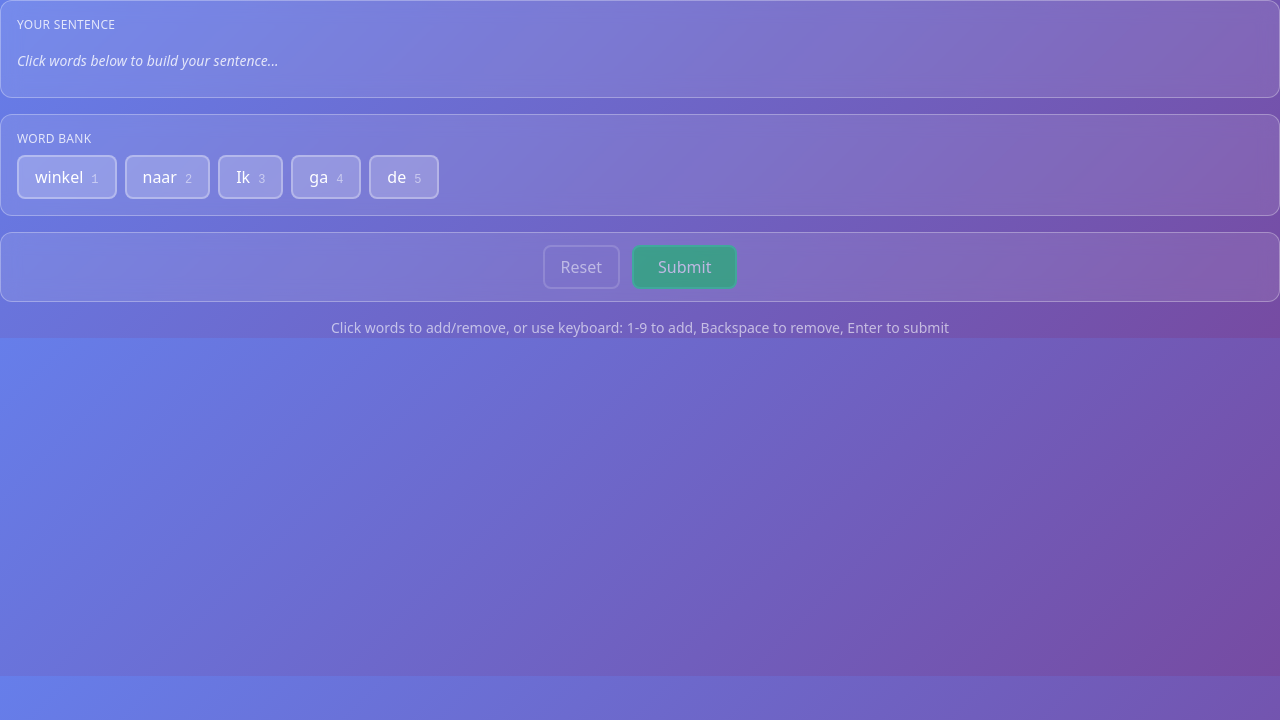
Test case: SentenceConstructionInput › word selection › should build sentence in correct order
# Add words in order
Click the text "Ik".
click(243, 177)  # box [236, 166, 250, 188]
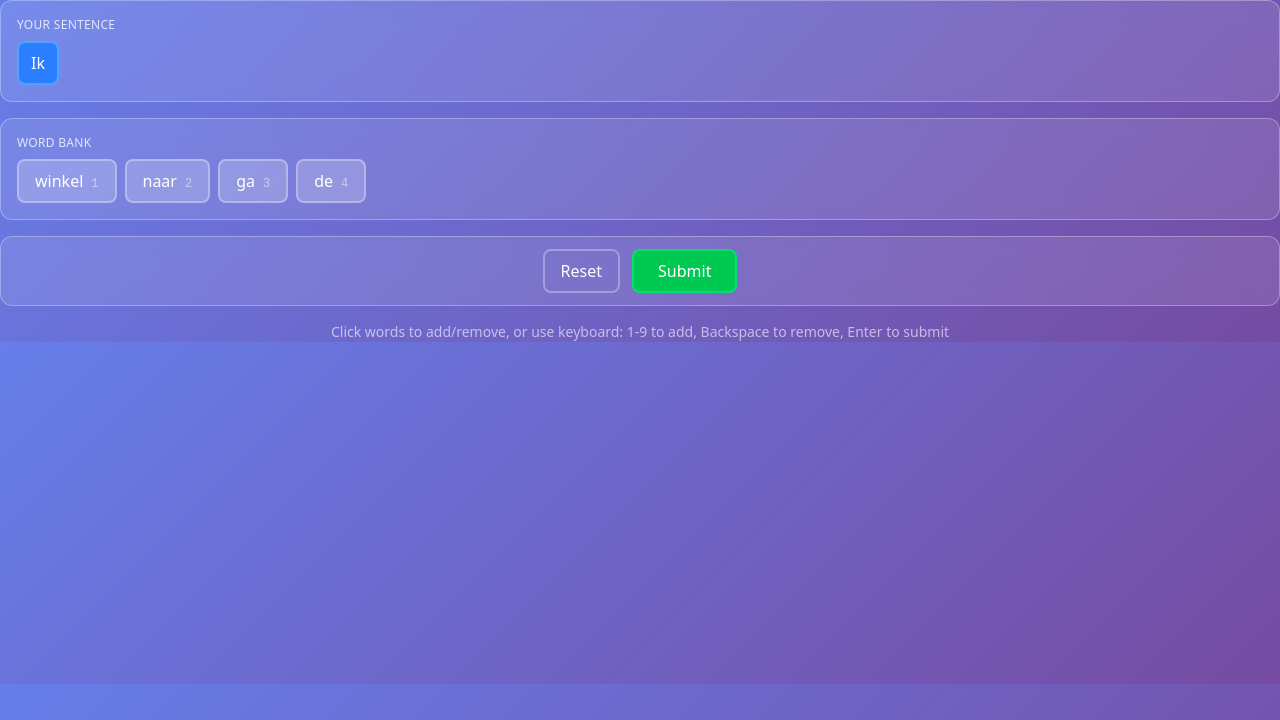
Click the text "ga".
click(246, 181)  # box [236, 170, 255, 192]
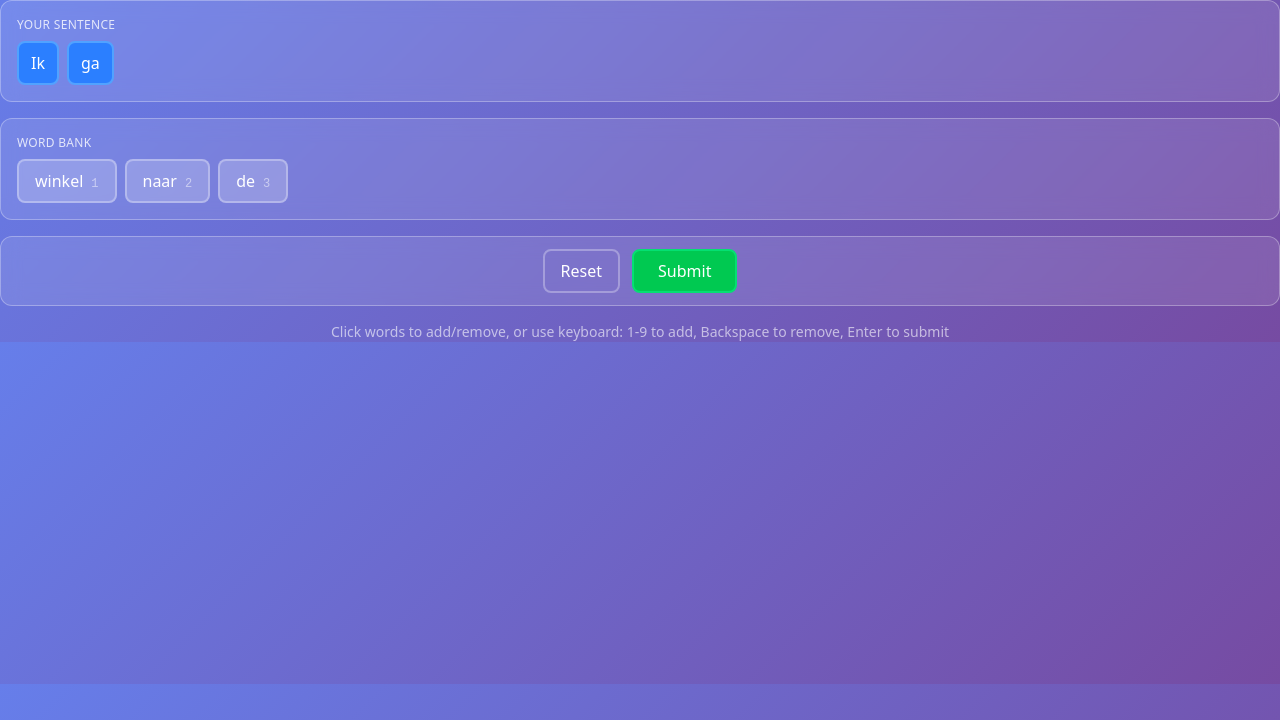
Click the text "naar".
click(160, 181)  # box [142, 170, 177, 192]
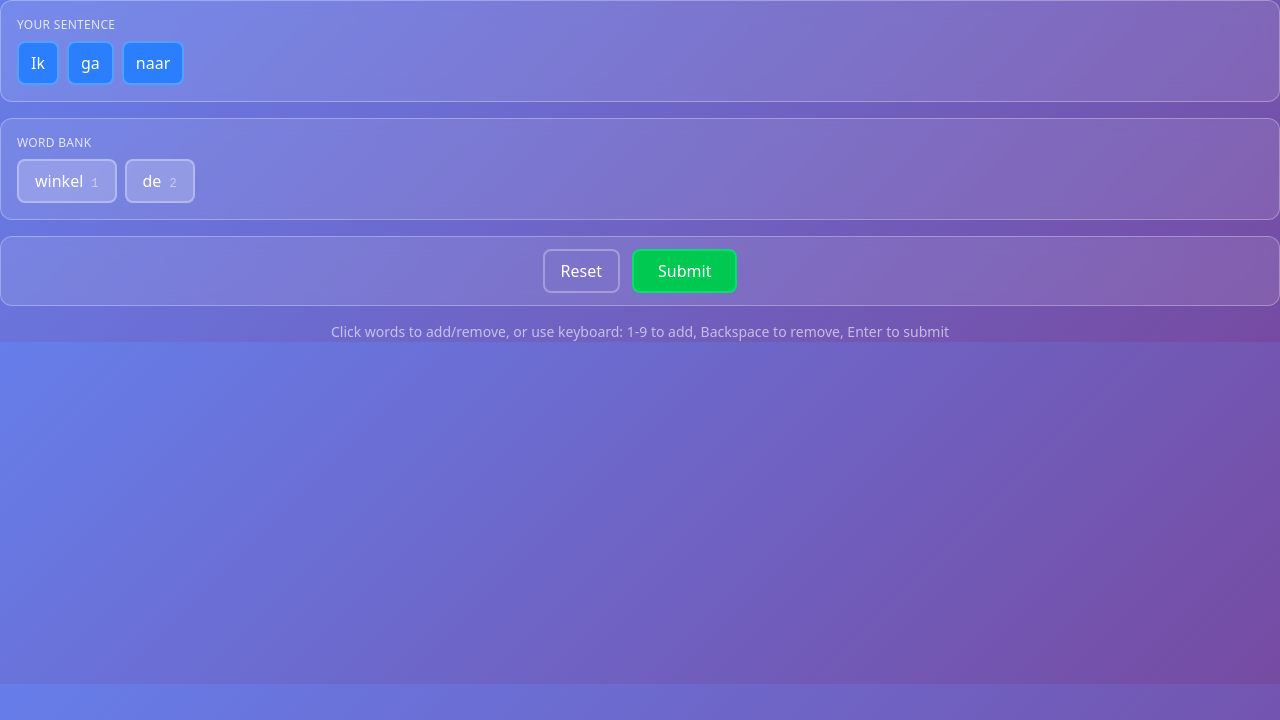
Click the text "de".
click(152, 181)  # box [142, 170, 161, 192]
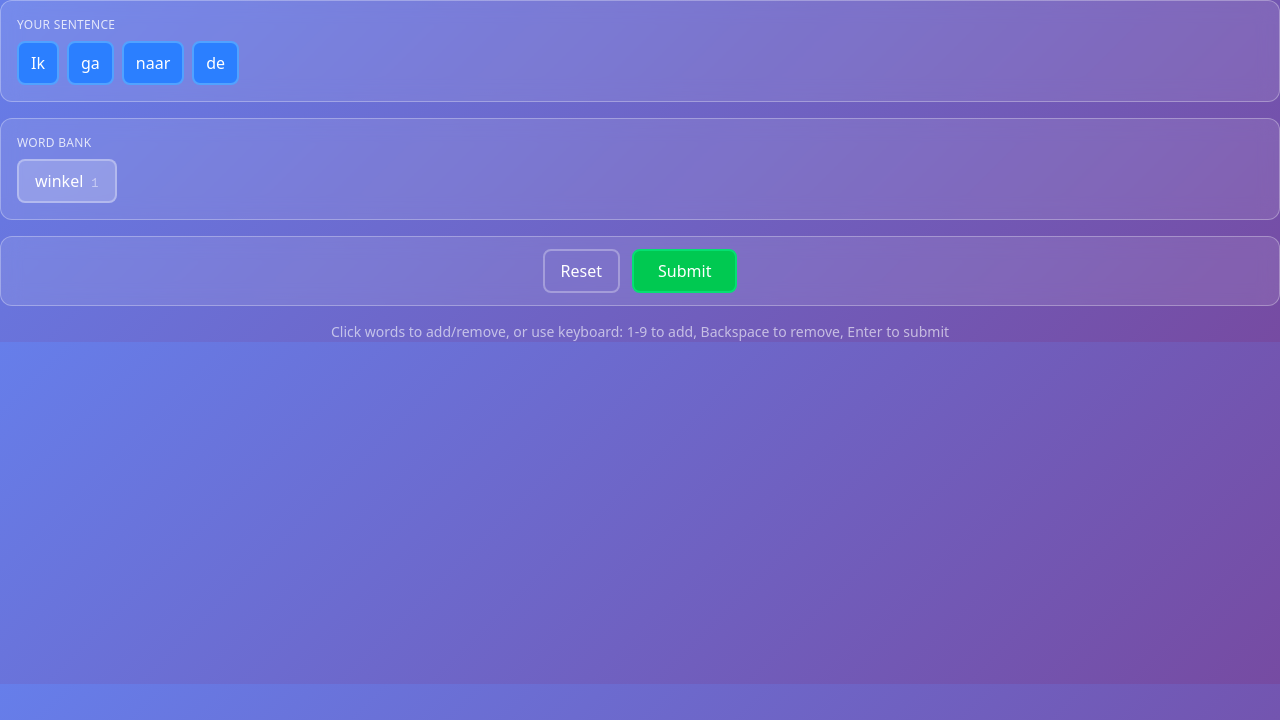
Click the text "winkel".
click(59, 181)  # box [35, 170, 83, 192]
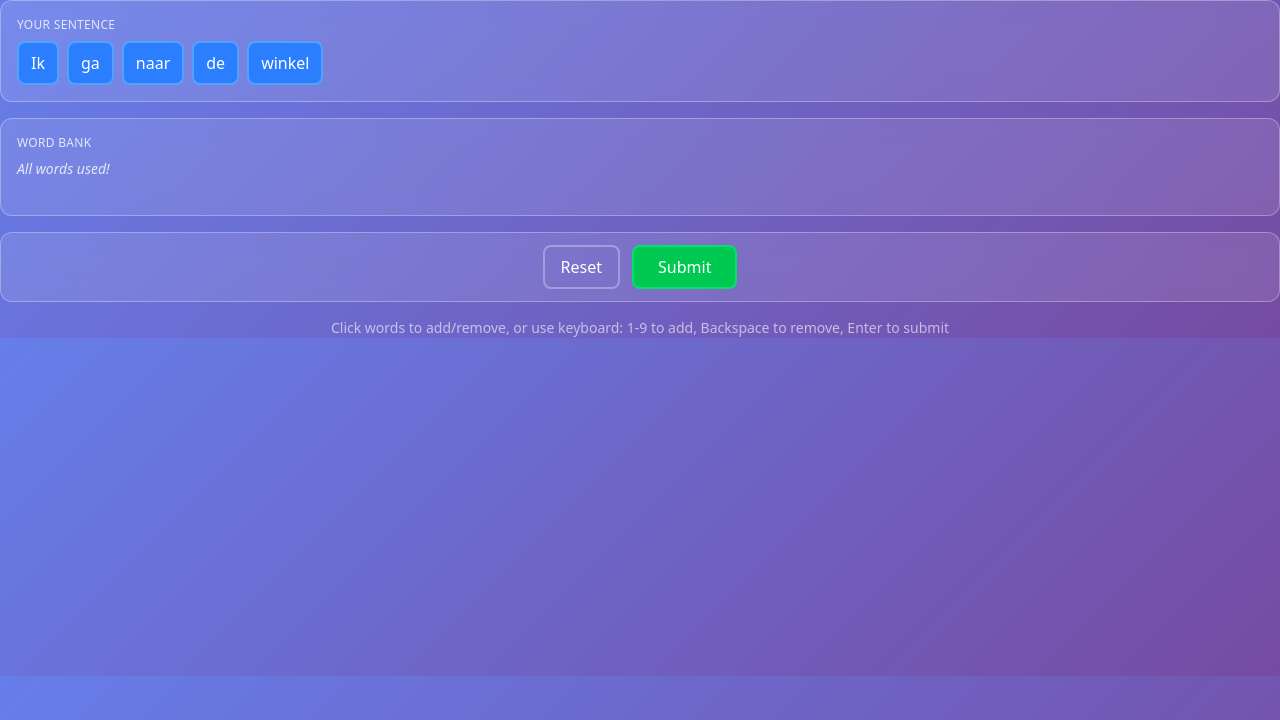
Expected: the text "All words used!" is shown, [17, 159, 110, 178]
